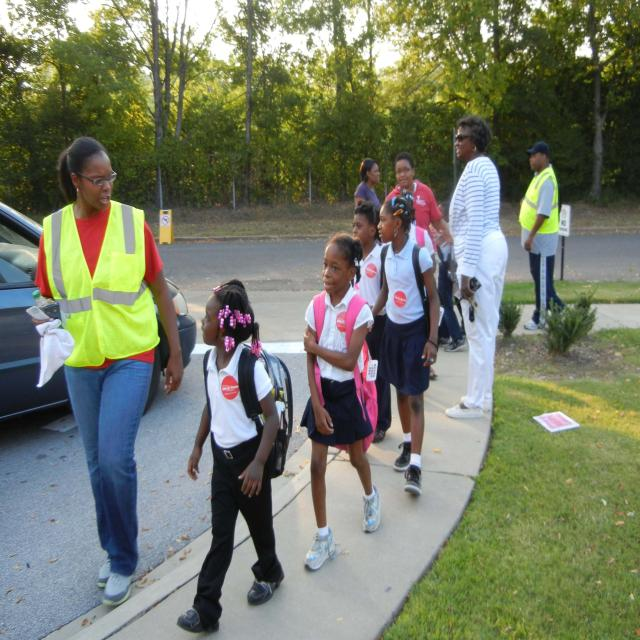body: (27, 132, 187, 610), (175, 274, 294, 636), (300, 228, 382, 574), (362, 188, 441, 498), (444, 114, 511, 422), (372, 186, 437, 408), (518, 139, 572, 332), (346, 198, 391, 372), (382, 150, 455, 256), (433, 201, 467, 353), (353, 157, 381, 212)
